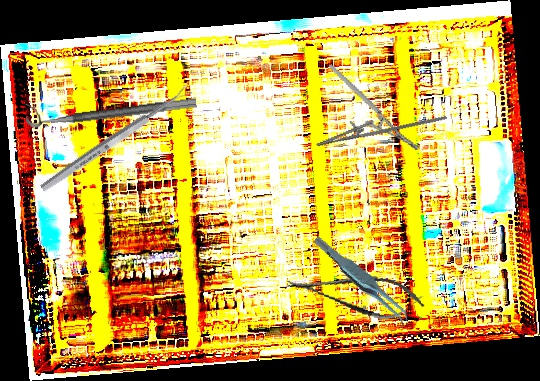Fixation Ring: (24, 82, 197, 130)
Micro Scissor: (282, 260, 429, 327)
Needle Holder: (328, 45, 421, 169), (312, 90, 448, 163)
Surgical Spoon: (38, 84, 194, 194)
Tissue Forceps: (312, 220, 413, 342)
